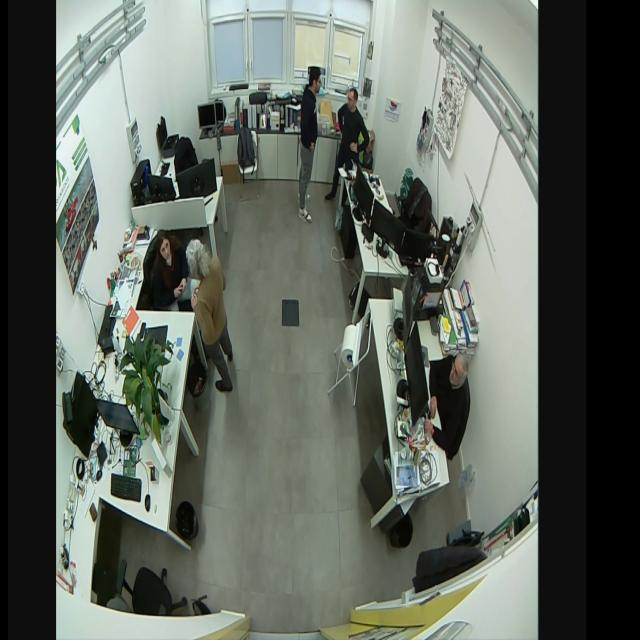Persona: (185, 236, 234, 396), (424, 346, 471, 456), (296, 64, 324, 225), (334, 84, 371, 170), (151, 225, 187, 310)
